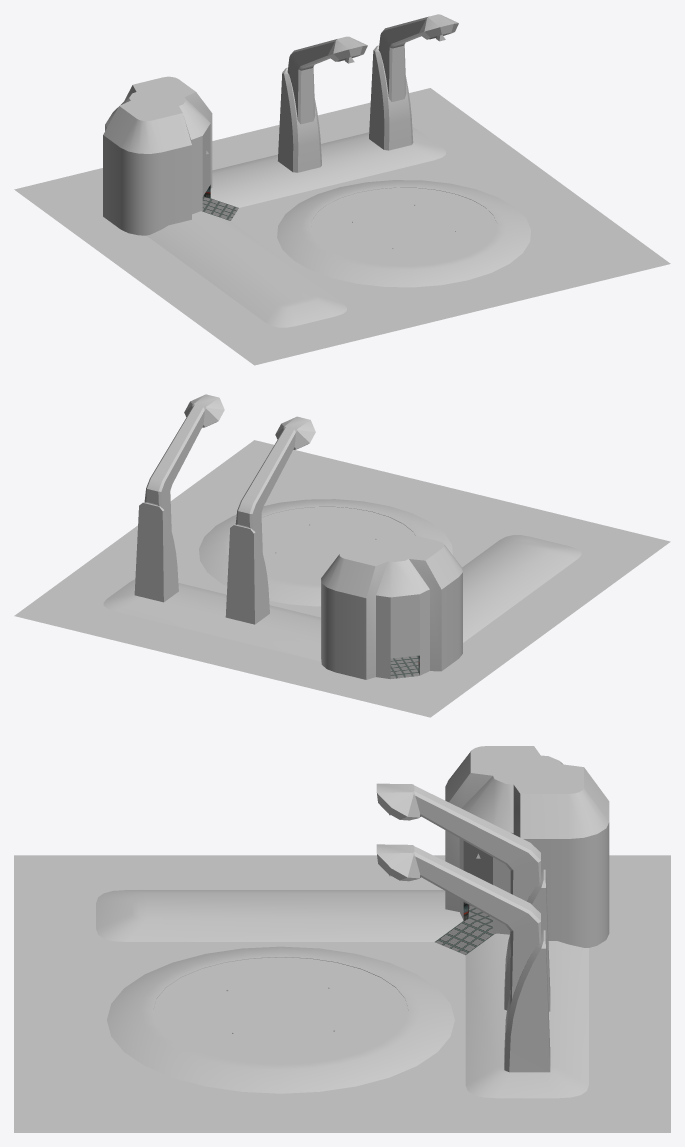
File: ibsbay00.FBX
The picture shows the model from 3 angles, top to bottom: view 1: azimuth 30°, elevation 25°; view 2: azimuth 150°, elevation 25°; view 3: azimuth 270°, elevation 25°; orthographic projection. The views are drawn at different scales.
Parts seen in each view (by area): view 1: terrain, mainbody, plate, pit, floor; view 2: terrain, mainbody, plate, pit, floor; view 3: terrain, mainbody, plate, pit, floor.
Part boxes in pixels (box(x1,y1,x2,y2)): terrain: box(14, 88, 670, 365); mainbody: box(103, 14, 458, 235); plate: box(311, 187, 497, 266); pit: box(277, 180, 530, 287); floor: box(202, 196, 238, 220); terrain: box(14, 440, 670, 717); mainbody: box(134, 394, 462, 679); plate: box(261, 507, 414, 585); pit: box(199, 499, 452, 606); floor: box(390, 655, 419, 678); terrain: box(14, 855, 670, 1132); mainbody: box(376, 746, 609, 1072); plate: box(153, 957, 408, 1064); pit: box(107, 946, 454, 1093); floor: box(435, 905, 494, 955).
Bounding box in the file's own units: 64 × 27 × 64.
